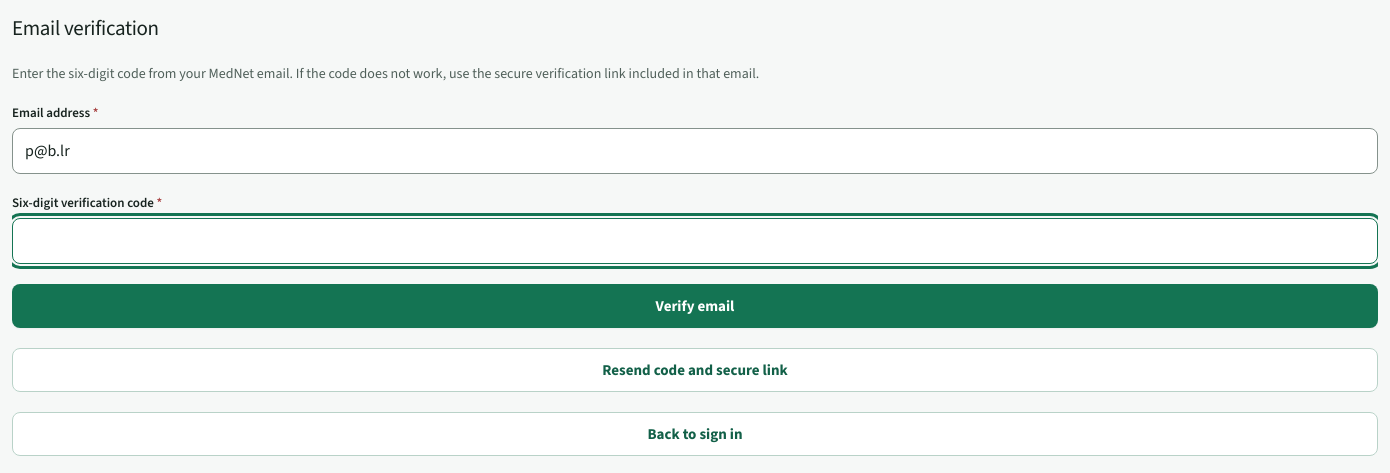
Test case: VerifyEmailPanel › shows and focuses the six-digit code field immediately, then verifies through MedNet
In the field labelled "Six-digit verification code *": (695, 241) [12, 218, 1378, 264], type "123456"
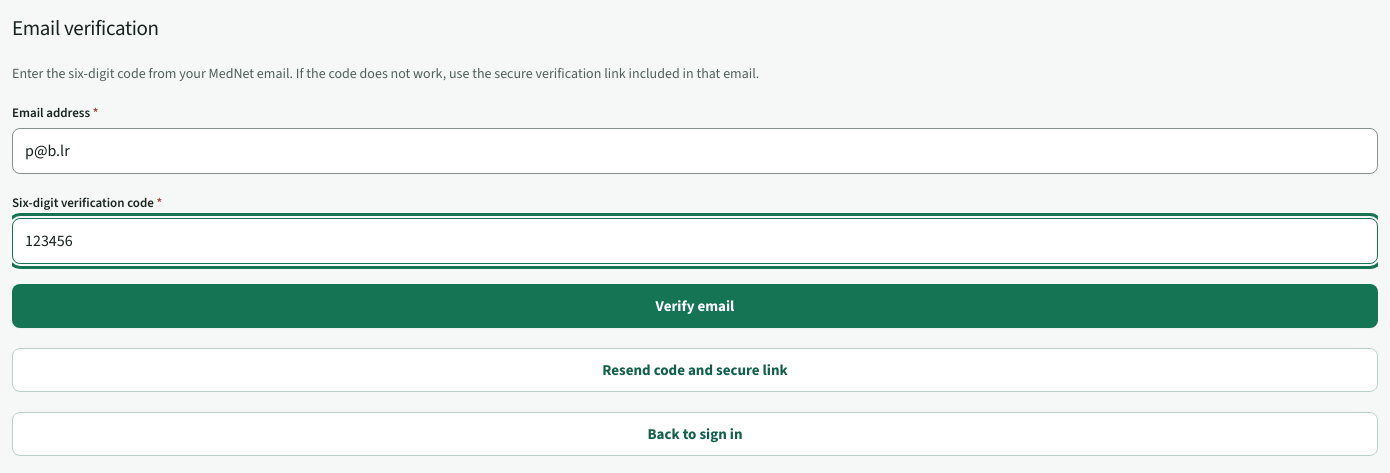
Click the button "Verify email": (695, 306) [12, 284, 1378, 328]
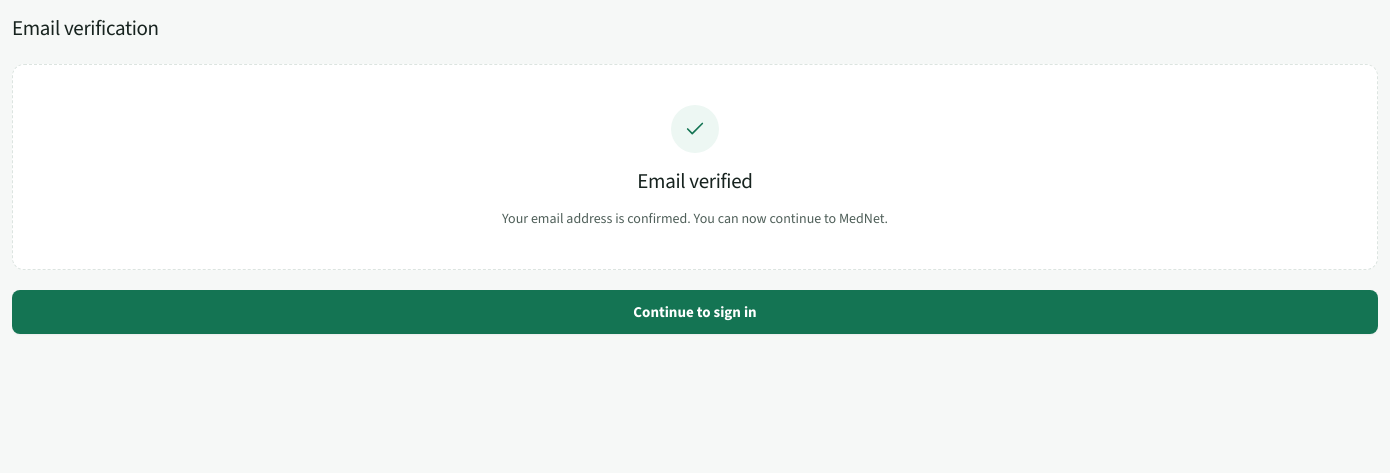
Expected: the text "Your email address is confirmed. You can now continue to MedNet." is shown, [502, 209, 888, 229]
